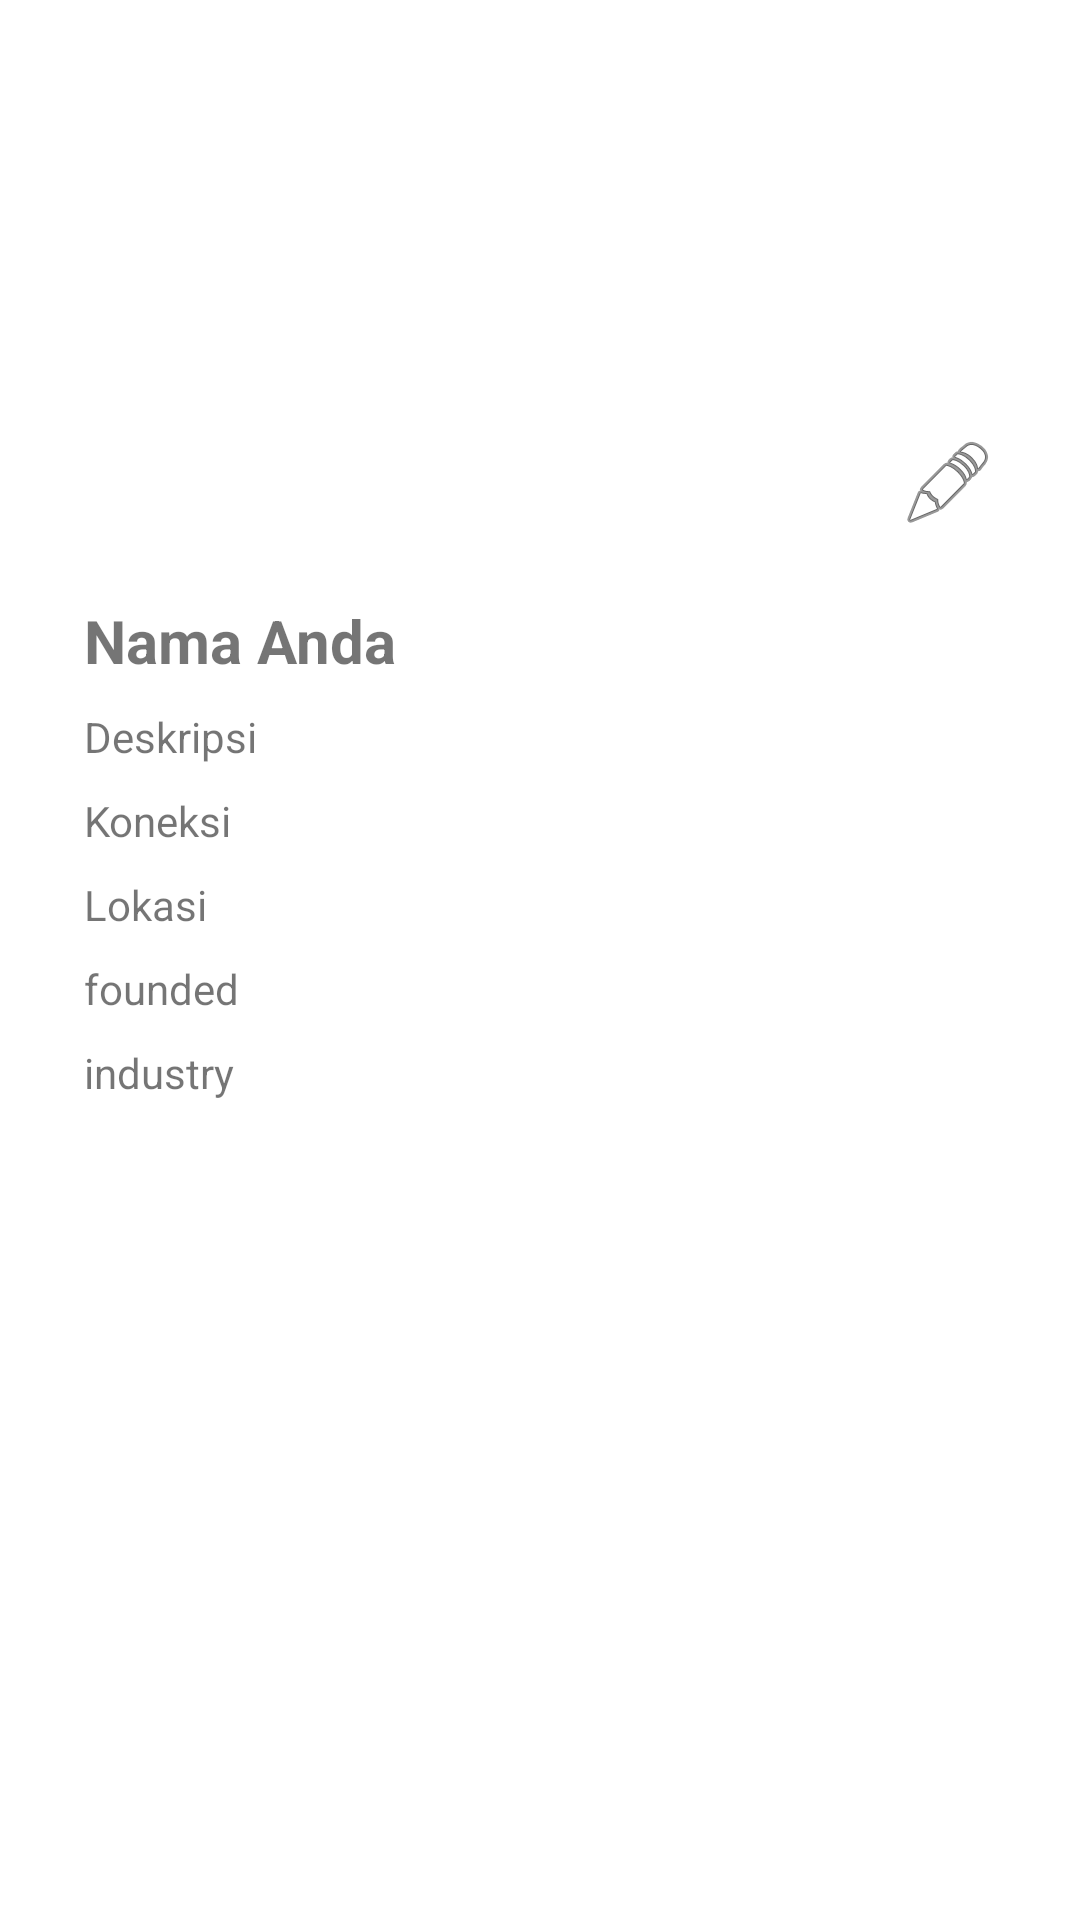

Icon bounding boxes for this 1080 x 1920 phone screenshot, format bbox(x1, y1, x2, y2):
edit: bbox(907, 442, 988, 523)
